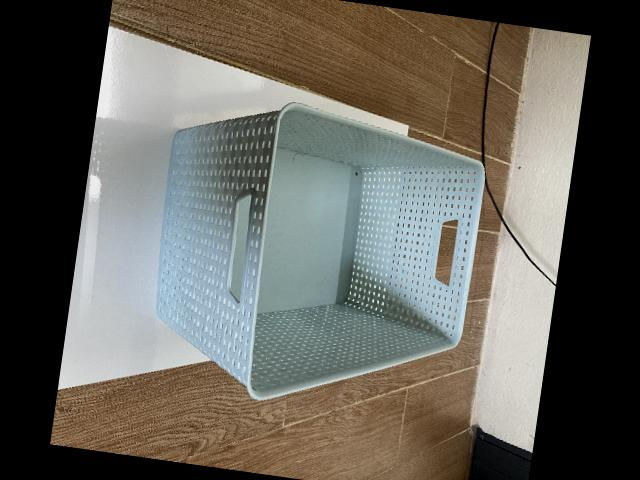cart: (154, 100, 484, 400)
